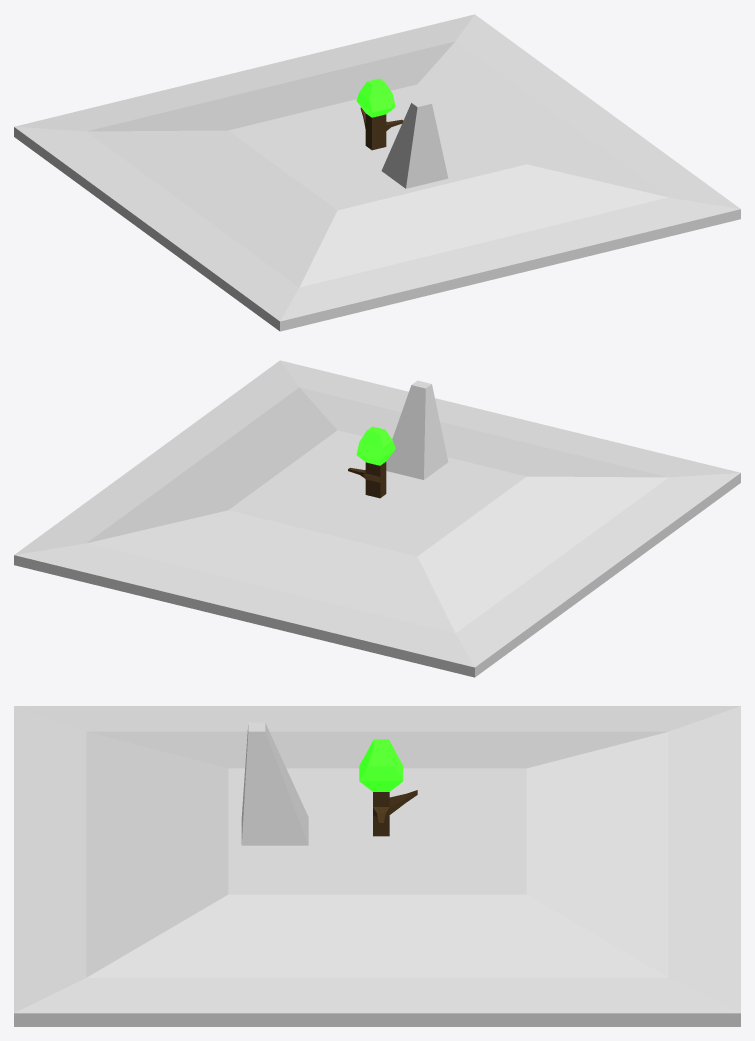
File: lamplight.glb
3 views of the same model, one above another, from view 1: azimuth 30°, elevation 25°; view 2: azimuth 150°, elevation 25°; view 3: azimuth 270°, elevation 25° (orthographic). The views are drawn at different scales.
Visible parts, largest first — view 1: Cube; view 2: Cube; view 3: Cube.
Boxes of the visible parts, <box> form: Cube: <box>14,14,740,331</box>; Cube: <box>14,360,740,677</box>; Cube: <box>14,706,740,1026</box>.
Bounding box in the file's own units: 18.85 × 4.99 × 18.85.
1 material, 1 textured.
